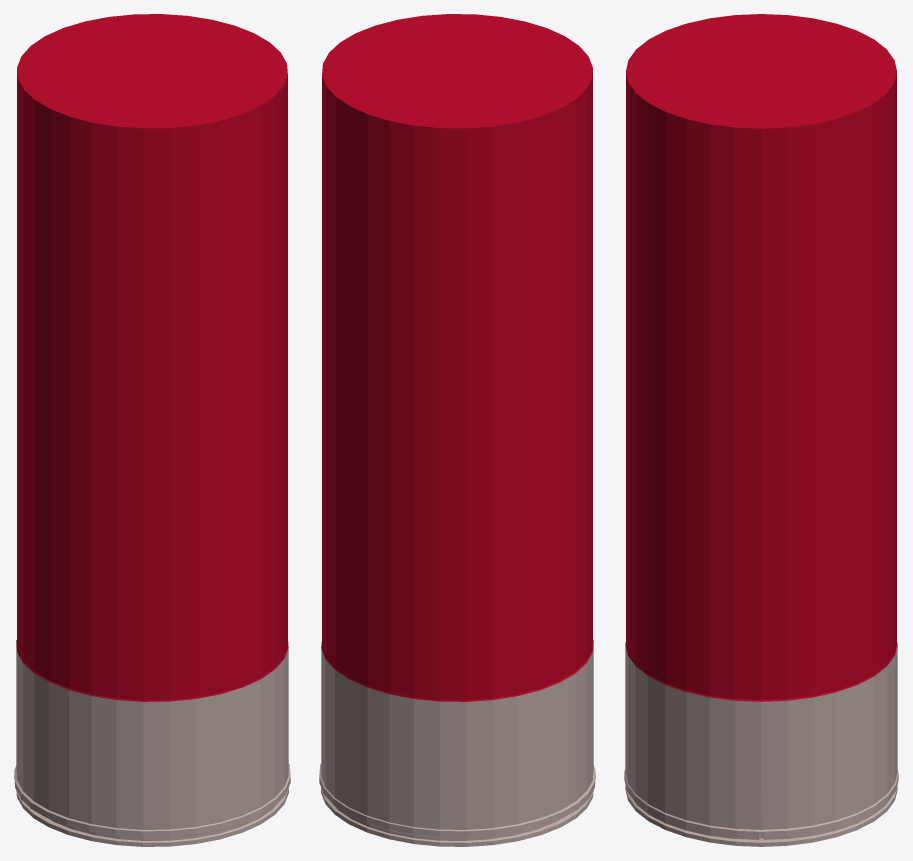
Rendered from Shell_Model.fbx.
3 renders of one model, left to right at view 1: azimuth 30°, elevation 25°; view 2: azimuth 150°, elevation 25°; view 3: azimuth 270°, elevation 25°, orthographic.
Visible parts, largest first — view 1: Cylinder; view 2: Cylinder; view 3: Cylinder.
Part boxes in pixels (box(x1,y1,x2,y2)): Cylinder: box(14, 14, 290, 846); Cylinder: box(319, 14, 595, 846); Cylinder: box(624, 14, 898, 846).
Size of the model in its own units: 145 by 410 by 142.
